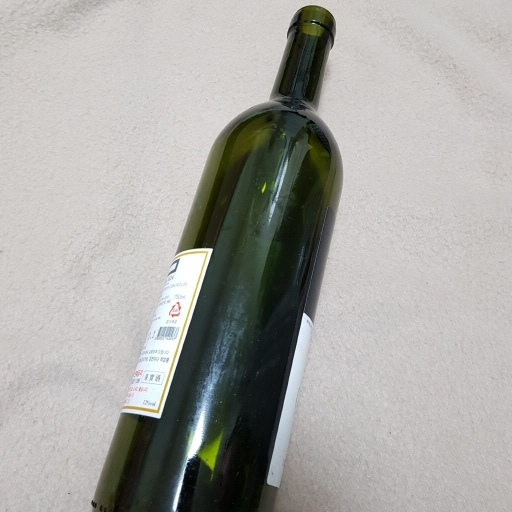Glass_2: (79, 7, 345, 512)
